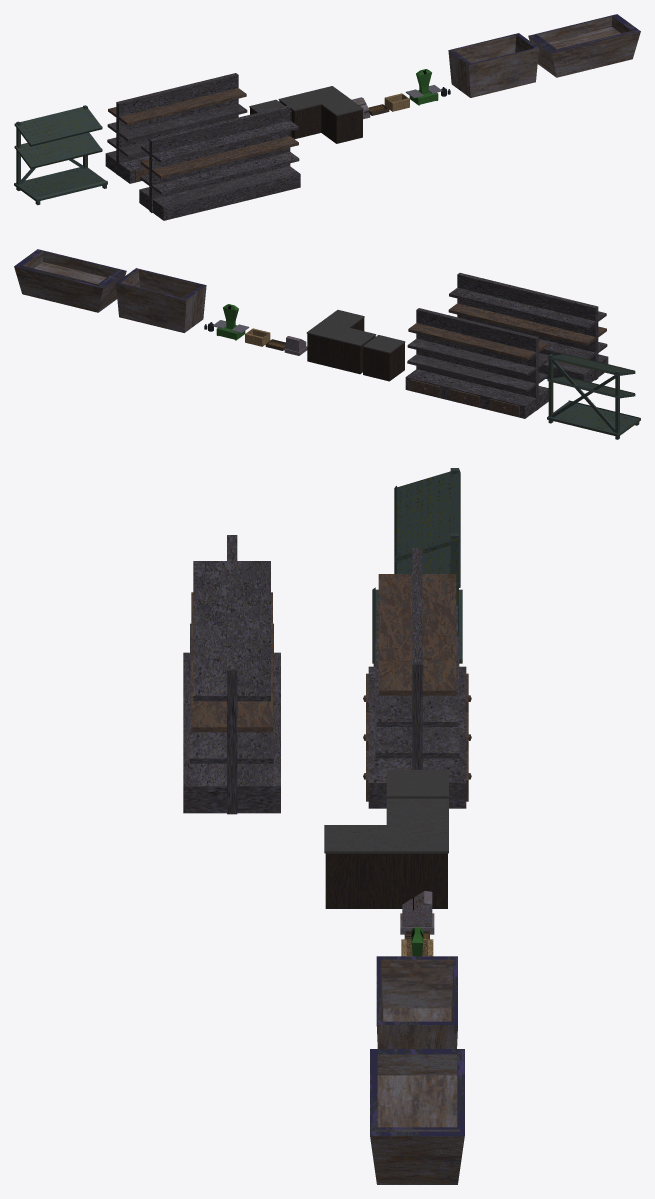
Rendered from ShopEnvirenment.fbx.
3 renders of one model, top to bottom at view 1: azimuth 30°, elevation 25°; view 2: azimuth 150°, elevation 25°; view 3: azimuth 270°, elevation 25°, orthographic. The views are drawn at different scales.
Parts seen in each view (by area): view 1: Showcase1, Showcase, Rack, Freedge1, ShopFreedge, TableTop1, Weights, ShopWoodenBox, TableTop; view 2: Showcase, Showcase1, Freedge1, ShopFreedge, Rack, TableTop1, TableTop, Weights, ShopWoodenBox, Cashier; view 3: Showcase1, Showcase, Freedge1, TableTop1, ShopFreedge, Rack, TableTop, Cashier.
Part boxes in pixels (box(x1,y1,x2,y2)): Showcase1: box(139, 105, 300, 220); Showcase: box(105, 73, 247, 183); Rack: box(14, 105, 107, 205); Freedge1: box(528, 14, 640, 77); ShopFreedge: box(448, 33, 538, 97); TableTop1: box(278, 86, 363, 143); Weights: box(405, 69, 442, 105); ShopWoodenBox: box(384, 93, 409, 111); TableTop: box(249, 99, 291, 136); Showcase: box(405, 308, 548, 418); Showcase1: box(448, 273, 608, 382); Freedge1: box(14, 249, 126, 312); ShopFreedge: box(116, 268, 206, 332); Rack: box(547, 353, 640, 439); TableTop1: box(306, 310, 376, 374); TableTop: box(363, 335, 405, 381); Weights: box(212, 304, 249, 340); ShopWoodenBox: box(245, 328, 270, 346); Cashier: box(284, 336, 307, 355); Showcase1: box(183, 535, 280, 814); Showcase: box(363, 548, 471, 808); Freedge1: box(370, 1049, 464, 1184); TableTop1: box(324, 798, 448, 908); ShopFreedge: box(376, 956, 457, 1048); Rack: box(372, 468, 462, 666); TableTop: box(386, 770, 448, 798); Cashier: box(400, 891, 434, 934).
Bounding box in the file's own units: 2285 × 260 × 473.
